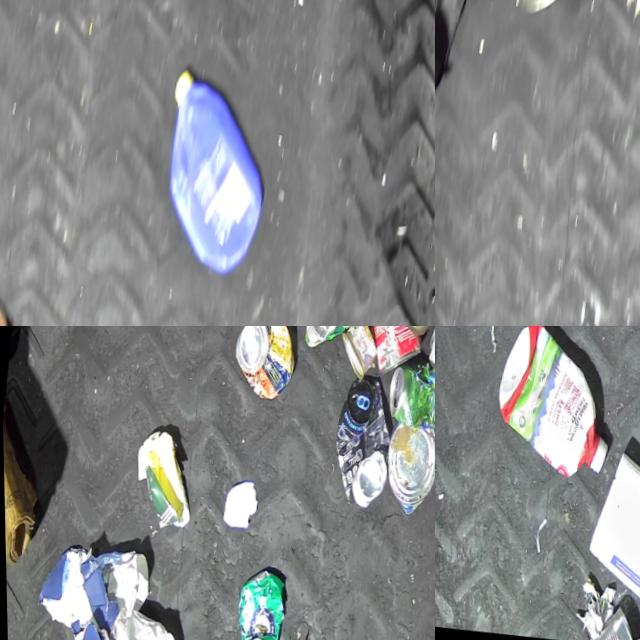can: (324, 375, 397, 511), (377, 421, 435, 518), (226, 326, 298, 402), (225, 566, 286, 640), (348, 326, 432, 378), (380, 357, 435, 431), (571, 600, 640, 640), (333, 326, 379, 380), (299, 326, 362, 352)
non_white_jug: (143, 49, 283, 278), (484, 326, 619, 482)
